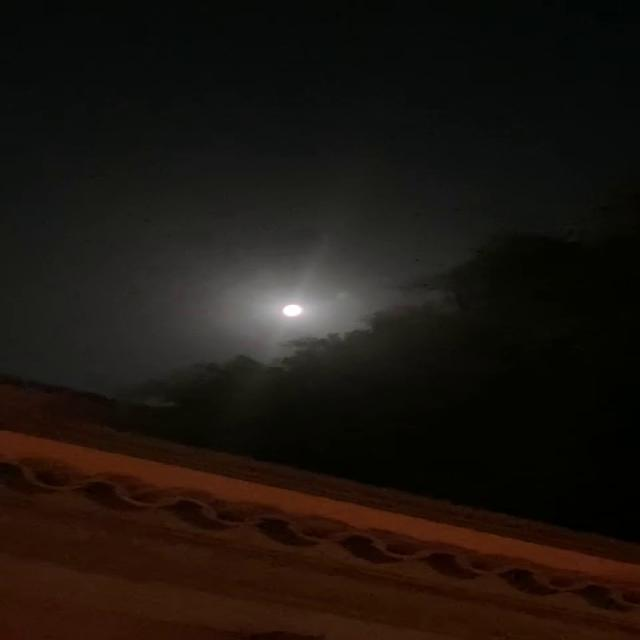moon: (283, 304, 317, 322)
